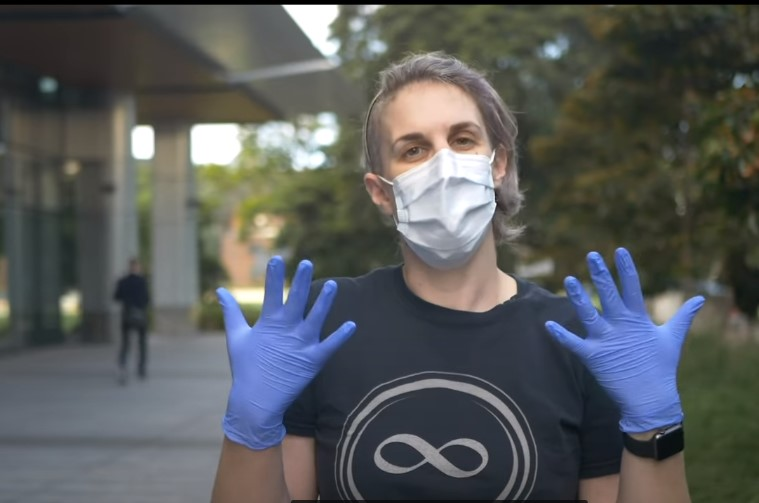face_with_mask: (364, 71, 508, 274)
